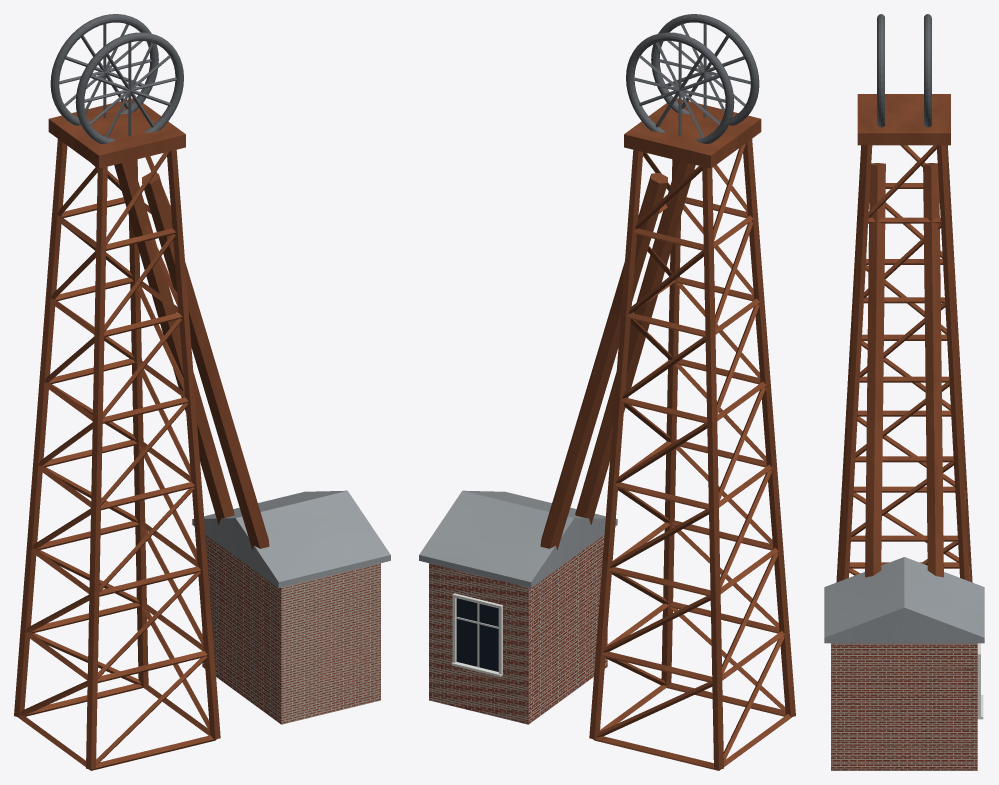
File: pv_tezni_vez.glb
The picture shows the model from 3 angles, left to right: view 1: azimuth 30°, elevation 25°; view 2: azimuth 150°, elevation 25°; view 3: azimuth 270°, elevation 25°; orthographic projection. The views are drawn at different scales.
Parts seen in each view (by area): view 1: dum; view 2: dum; view 3: dum.
Boxes of the visible parts, x1=… form: dum: x1=14, y1=14, x2=390, y2=770; dum: x1=419, y1=14, x2=795, y2=770; dum: x1=824, y1=14, x2=984, y2=770.
Bounding box in the file's own units: 9.54 × 21.57 × 4.79.
Materials: 1 (1 with a texture image).
